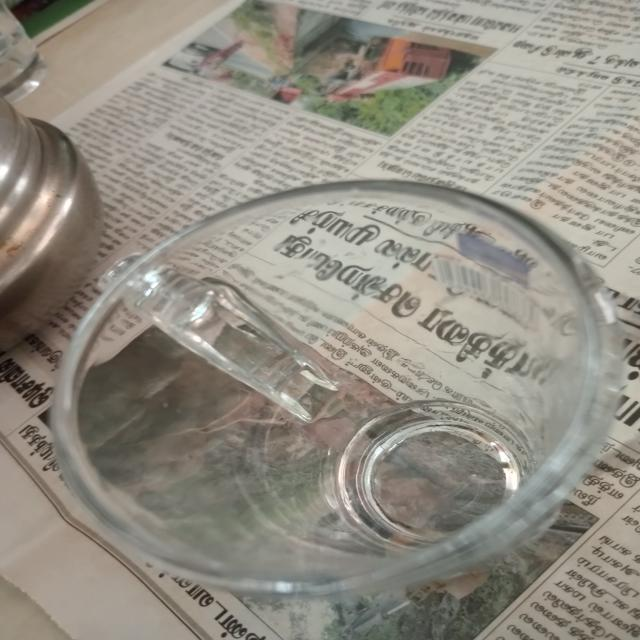glass-VX4N: (52, 177, 608, 598)
